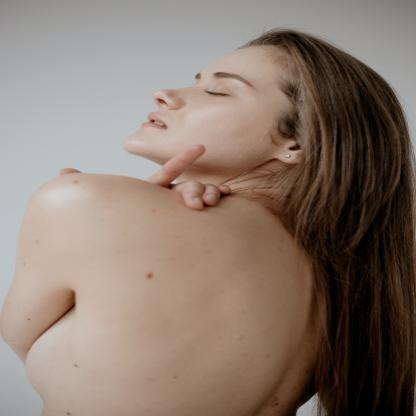Eye: (203, 84, 233, 97)
Mouth: (140, 112, 169, 130)
Nose: (151, 84, 201, 111)
